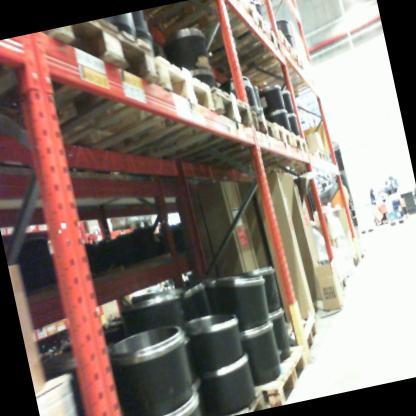forklift: (255, 79, 379, 276)
pallet: (0, 9, 172, 160), (40, 43, 224, 182), (125, 79, 252, 175), (157, 1, 276, 56), (216, 51, 317, 110), (187, 112, 279, 169), (253, 341, 329, 406), (210, 31, 291, 82), (132, 0, 257, 28), (277, 310, 332, 364), (269, 19, 306, 68), (211, 386, 270, 416), (273, 124, 296, 156), (290, 128, 313, 158), (355, 217, 381, 238), (336, 271, 355, 291), (313, 147, 332, 167), (385, 215, 407, 232), (370, 217, 388, 230), (350, 249, 363, 262)
